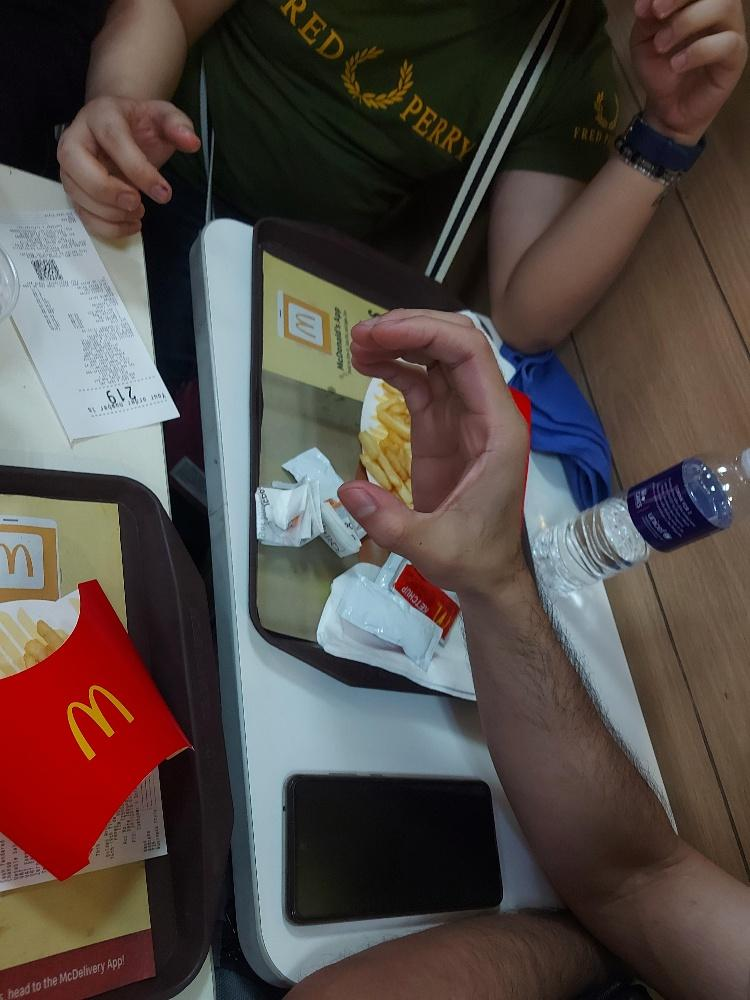c: (332, 304, 529, 589)
